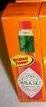grozi_98: (0, 0, 45, 104)
